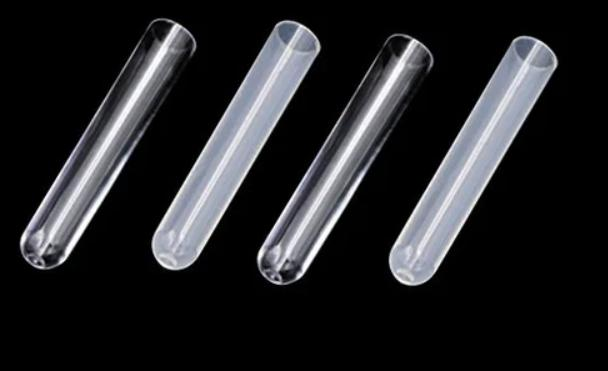Test tube: (15, 4, 564, 291)
